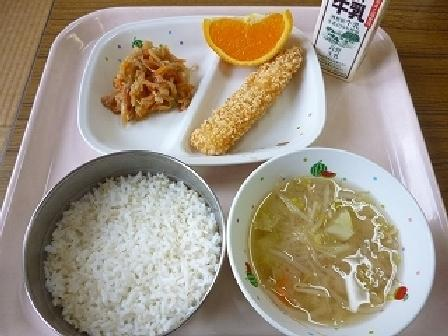Citrus: (201, 2, 311, 72)
Milk: (309, 0, 392, 72)
Rice: (33, 153, 229, 335)
Soups: (228, 159, 427, 335)
fried cheese: (189, 60, 308, 152)
vegetable based cooked food: (103, 35, 190, 124)
